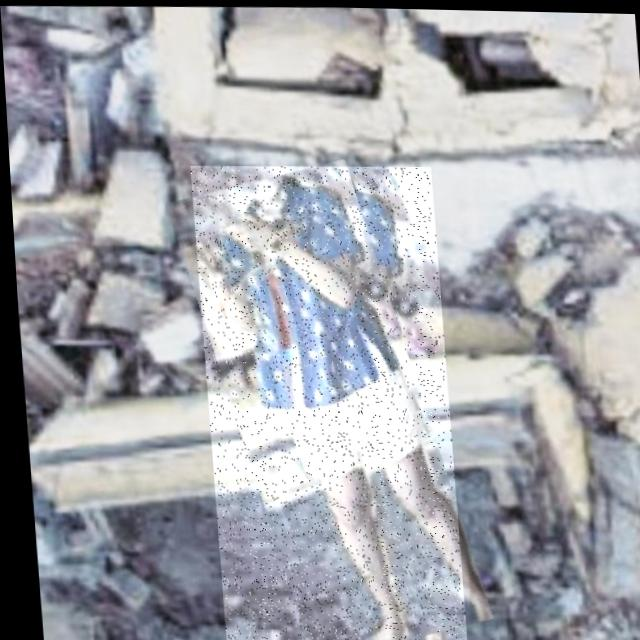Person in Rubble: (187, 160, 459, 640)
